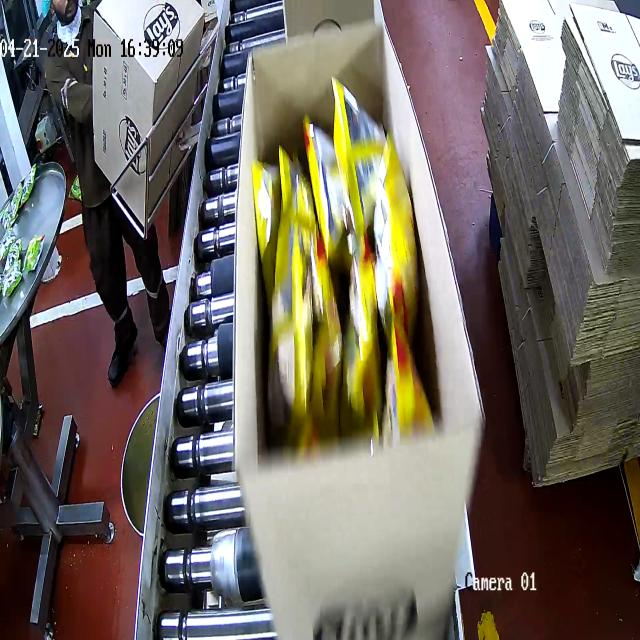SALTED: (240, 81, 441, 448)
